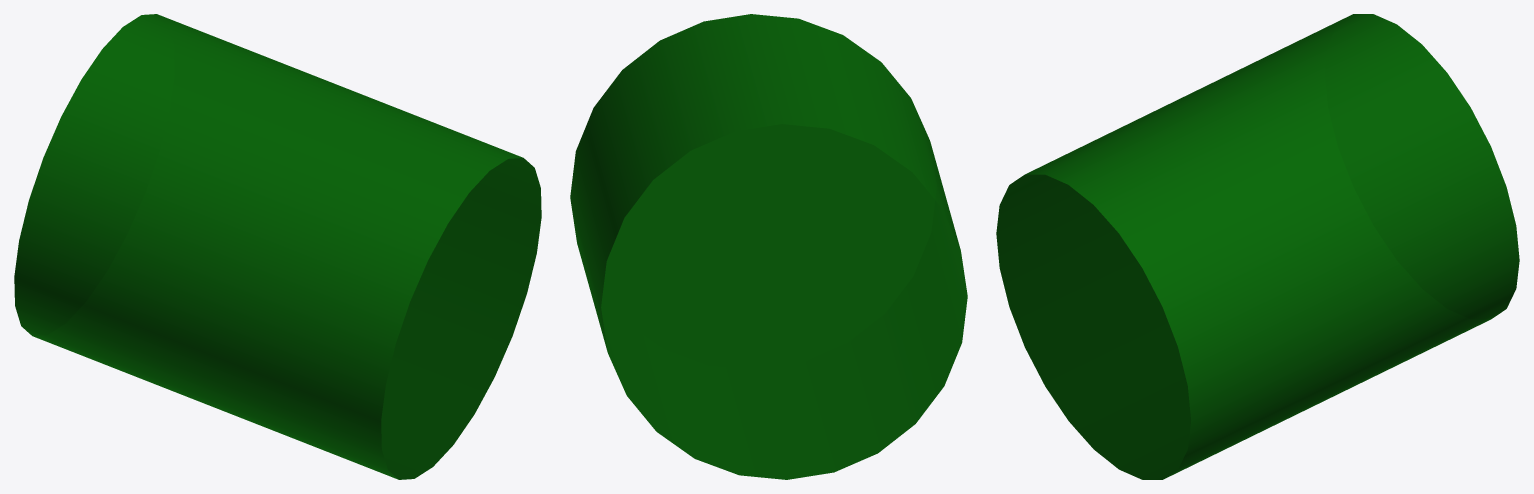
File: Event_191826238_jet_11.fbx
3 renders of one model, left to right at view 1: azimuth 30°, elevation 25°; view 2: azimuth 150°, elevation 25°; view 3: azimuth 270°, elevation 25°, orthographic. The views are drawn at different scales.
Visible parts, largest first — view 1: Model; view 2: Model; view 3: Model.
Boxes of the visible parts, x1,y1,x2,y2 form: Model: (14, 14, 541, 479); Model: (570, 14, 967, 479); Model: (996, 14, 1519, 479).
Bounding box in the file's own units: 0.0596 × 0.0481 × 0.0623.
